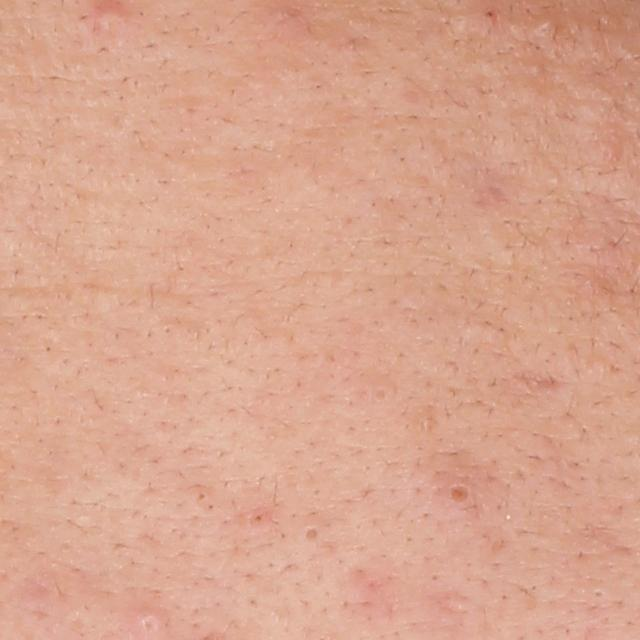comedo: (440, 476, 484, 512), (533, 14, 561, 39), (303, 524, 324, 543)
